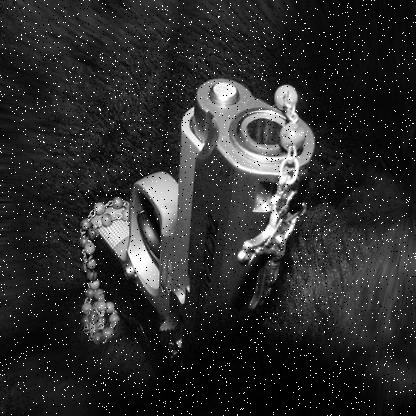pistol: (76, 82, 320, 381)
